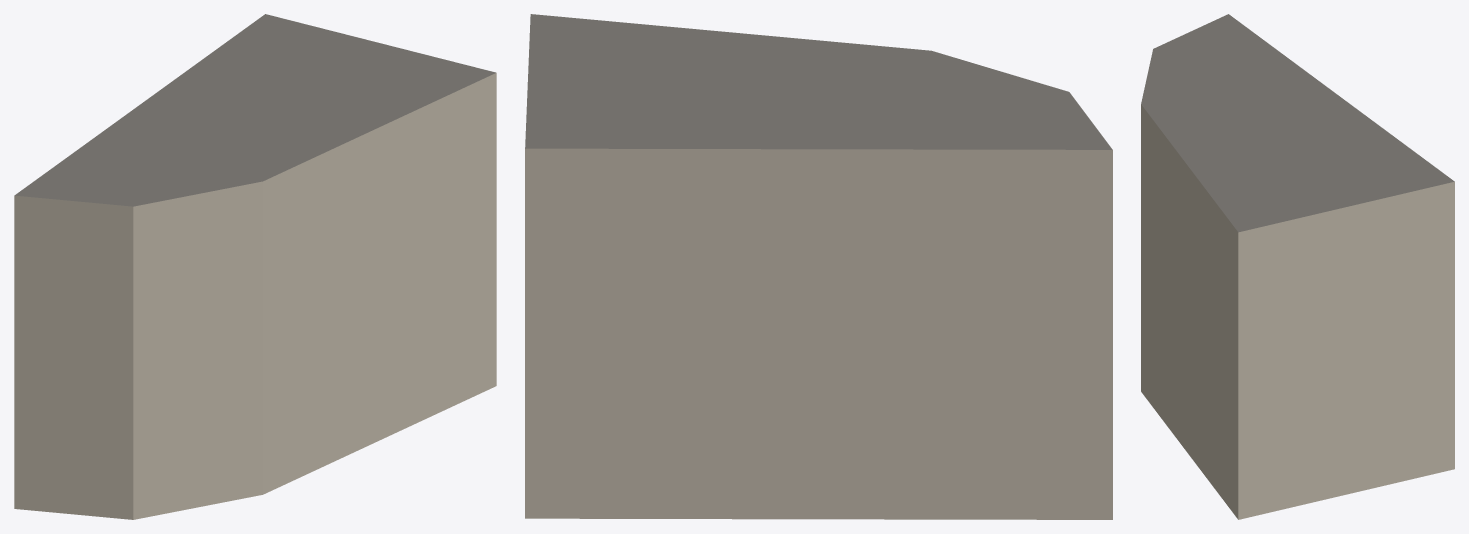
3 views of the same model, side by side, from view 1: azimuth 30°, elevation 25°; view 2: azimuth 150°, elevation 25°; view 3: azimuth 270°, elevation 25° (orthographic). The views are drawn at different scales.
Parts seen in each view (by area): view 1: HP-w1197059457; view 2: HP-w1197059457; view 3: HP-w1197059457.
Boxes of the visible parts, <box> form: HP-w1197059457: <box>14,14,496,519</box>; HP-w1197059457: <box>525,14,1112,519</box>; HP-w1197059457: <box>1141,14,1454,519</box>.
Bounding box in the file's own units: 29.32 × 18 × 17.81.
